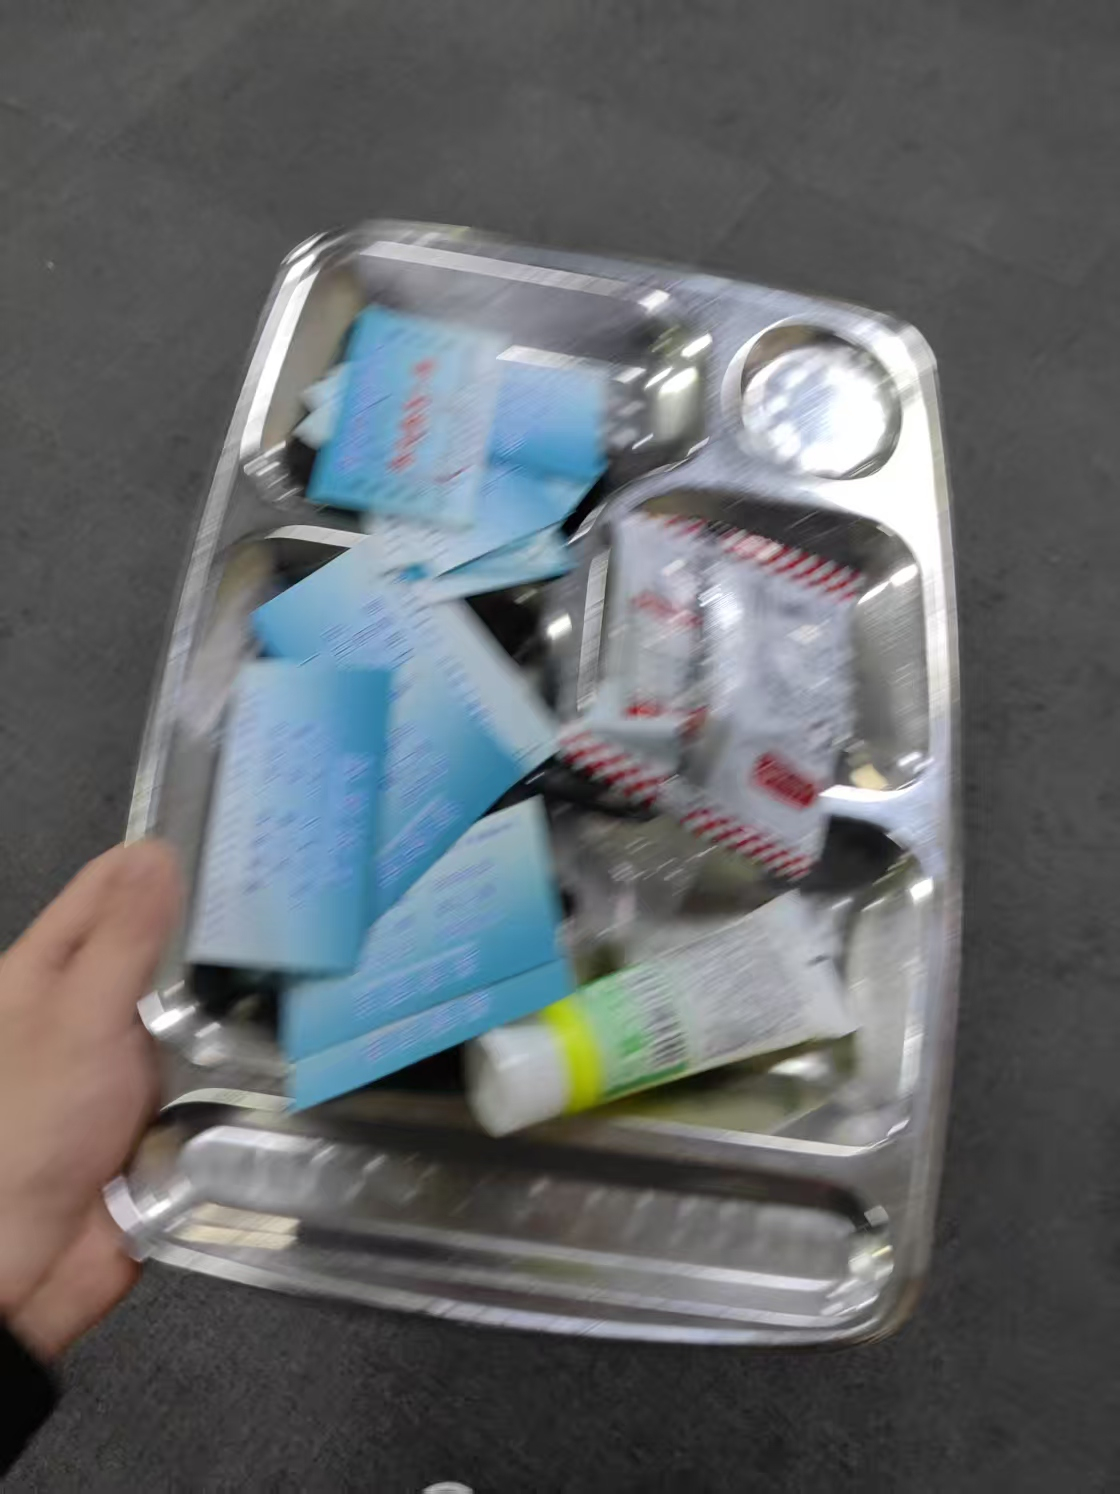plate: (97, 216, 962, 1347)
severe: (182, 296, 866, 1138)
